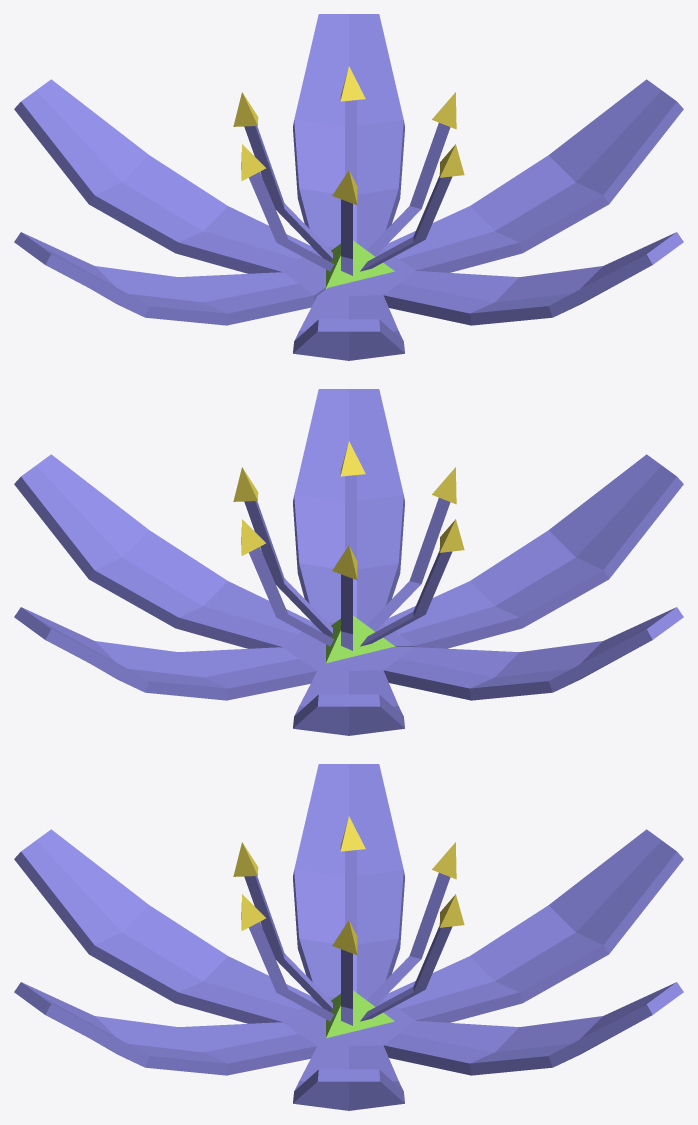
The model's file is camas-flower.glb.
3 renders of one model, top to bottom at view 1: azimuth 30°, elevation 25°; view 2: azimuth 150°, elevation 25°; view 3: azimuth 270°, elevation 25°, orthographic.
Parts seen in each view (by area): view 1: Plane, Cylinder.001, Cone; view 2: Plane, Cylinder.001, Cone; view 3: Plane, Cylinder.001, Cone.
Part boxes in pixels (left/top/right/bottom): Plane: left=14, top=14, right=683, bottom=360; Cylinder.001: left=233, top=66, right=464, bottom=275; Cone: left=325, top=240, right=394, bottom=289; Plane: left=14, top=389, right=683, bottom=735; Cylinder.001: left=233, top=441, right=464, bottom=650; Cone: left=326, top=615, right=395, bottom=663; Plane: left=14, top=764, right=683, bottom=1110; Cylinder.001: left=233, top=816, right=464, bottom=1025; Cone: left=326, top=990, right=394, bottom=1038.
Size of the model in its own units: 0.3551 by 0.0876 by 0.3225.
